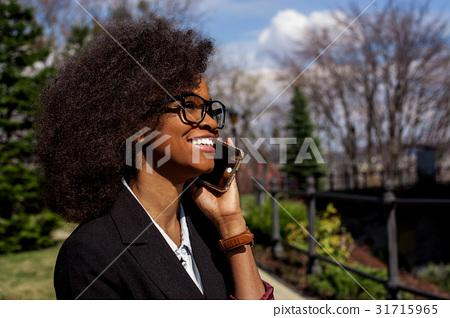talk: (163, 91, 245, 218)
